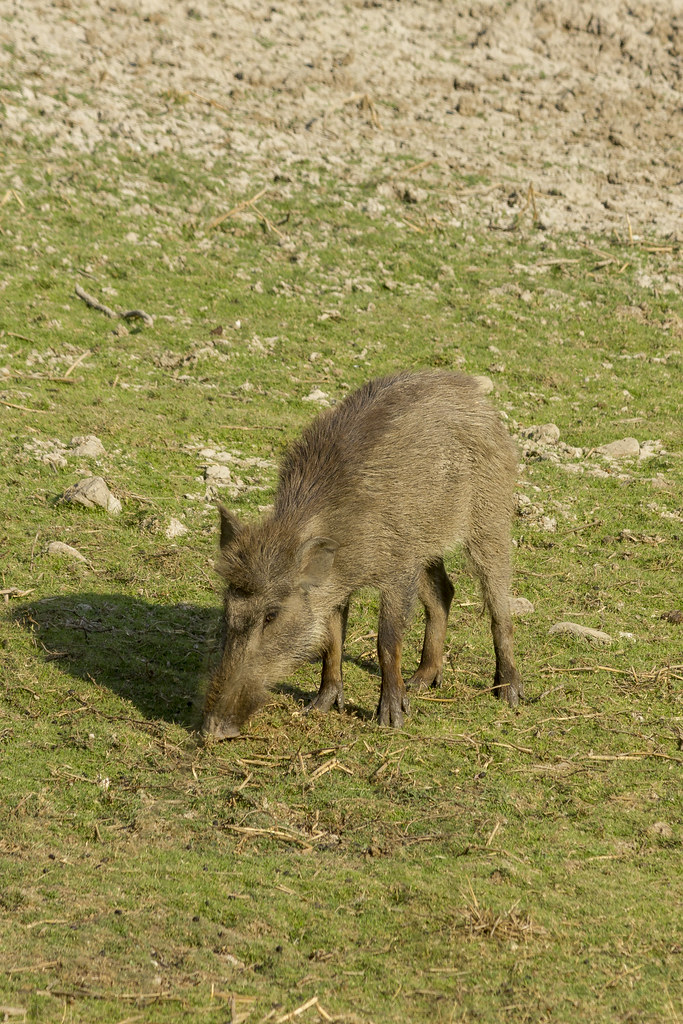wild boar: (123, 340, 595, 804)
